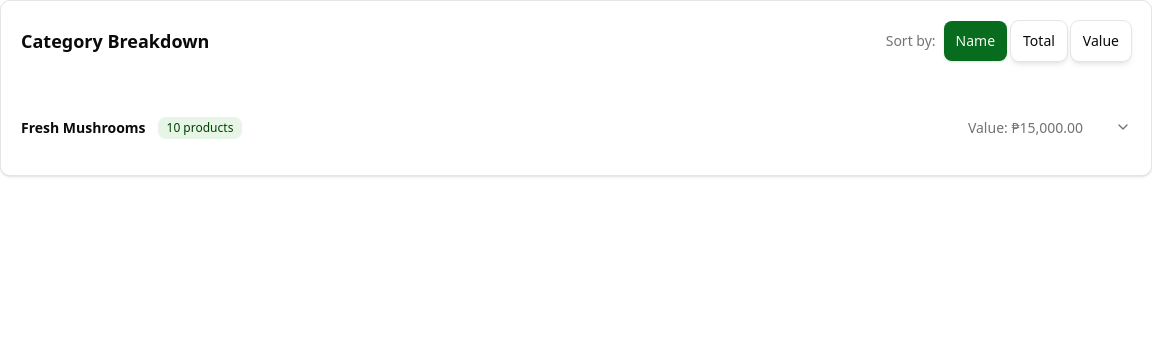
Test: CategoryInventoryBreakdown › Edge Cases › should handle out-of-stock products (currentStock = 0)
Click the heading "Fresh Mushrooms" at (83, 128), box x1=21 y1=118 x2=146 y2=138
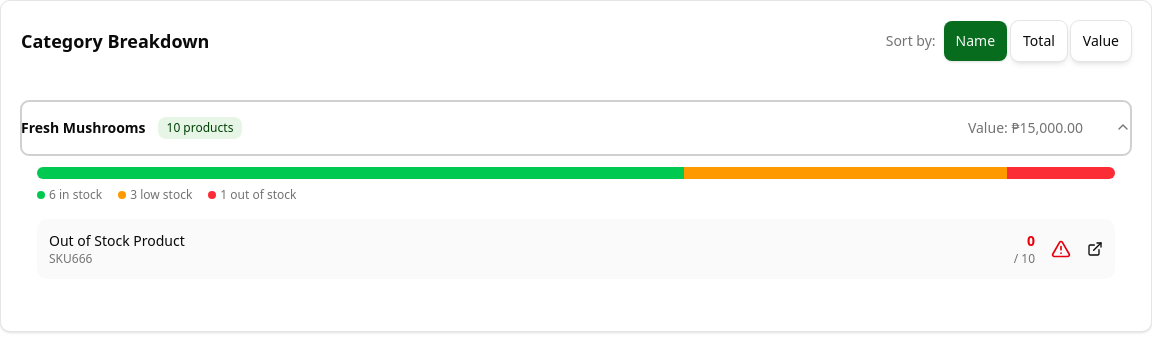
Expected: the text "Out of Stock Product" is shown, x1=49 y1=231 x2=185 y2=251
